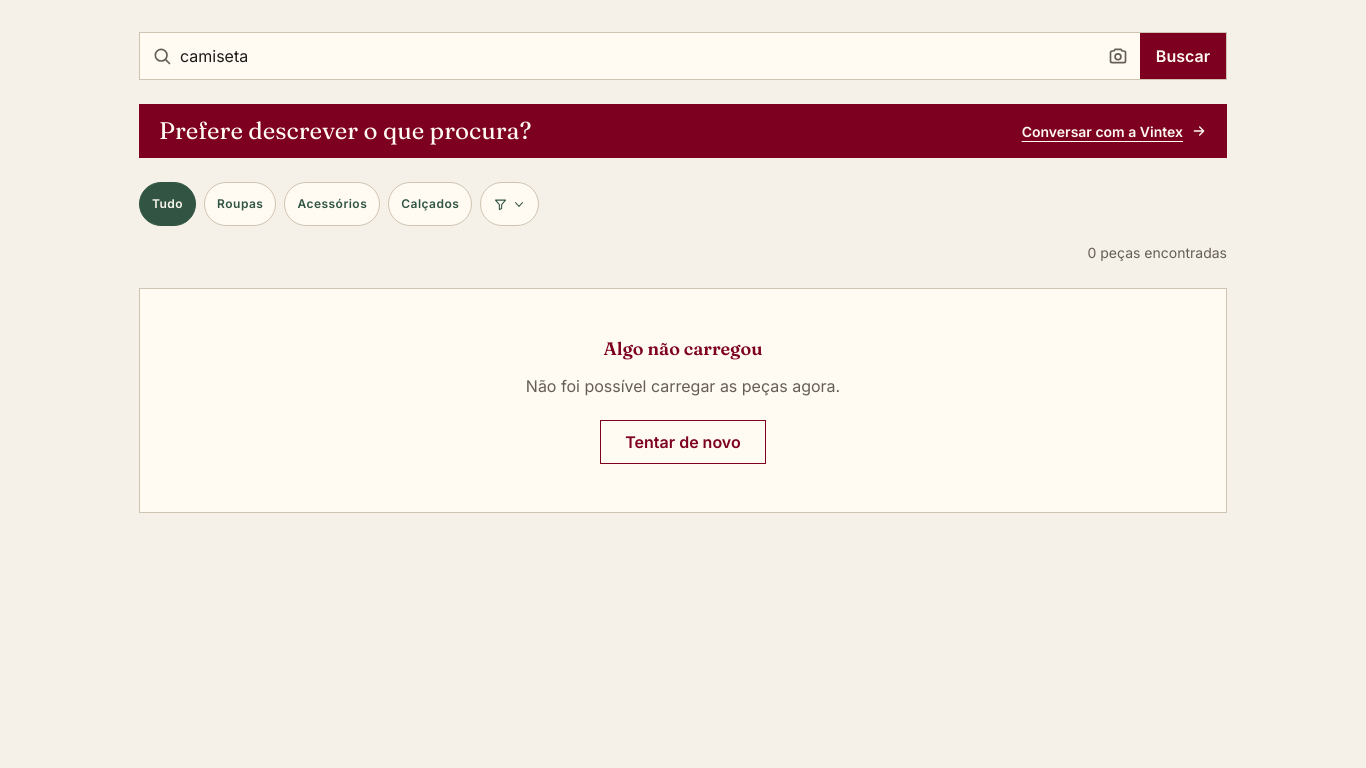
Catalog › resposta de retry antigo não substitui os produtos da consulta mais recente
Step 1. Click the button "Tentar de novo" → (683, 442), box [600, 420, 766, 464]
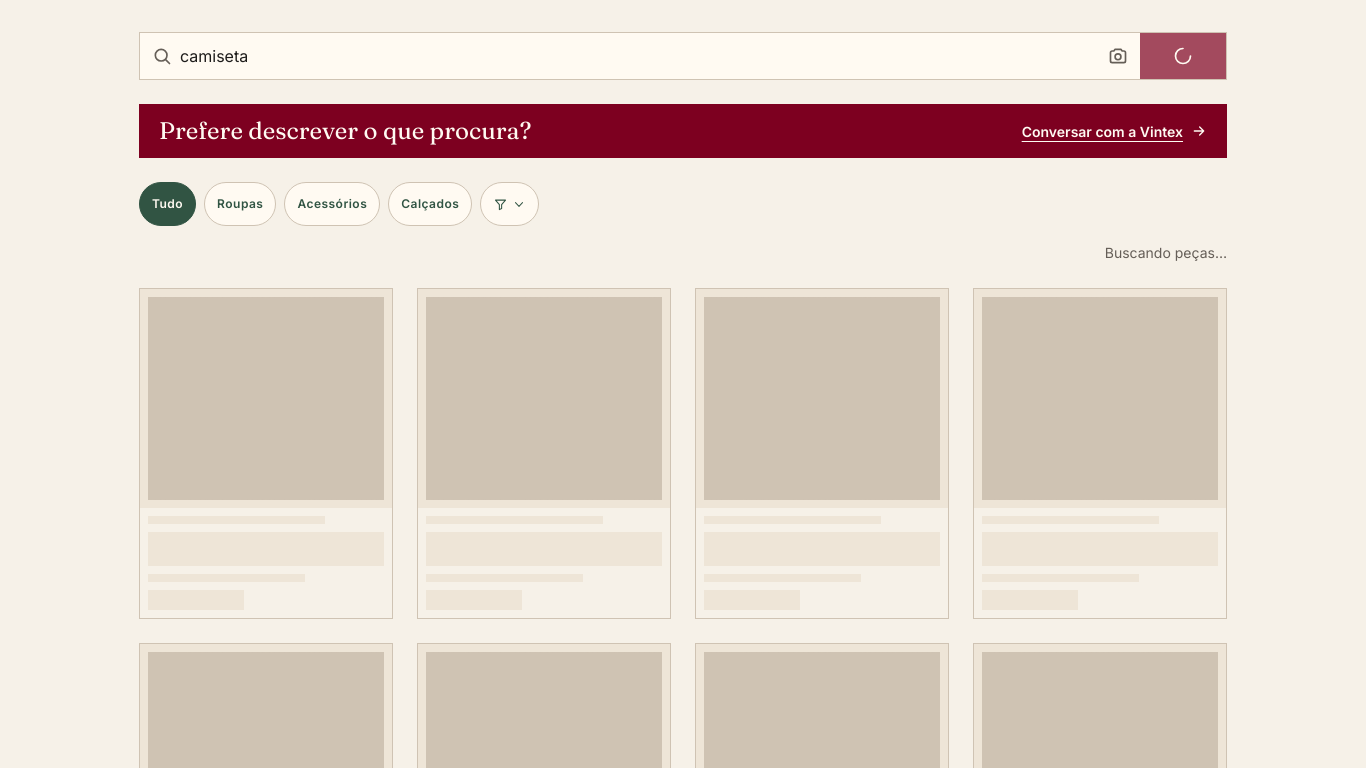
Step 2. Click the button "Calçados" → (430, 204), box [388, 182, 472, 226]
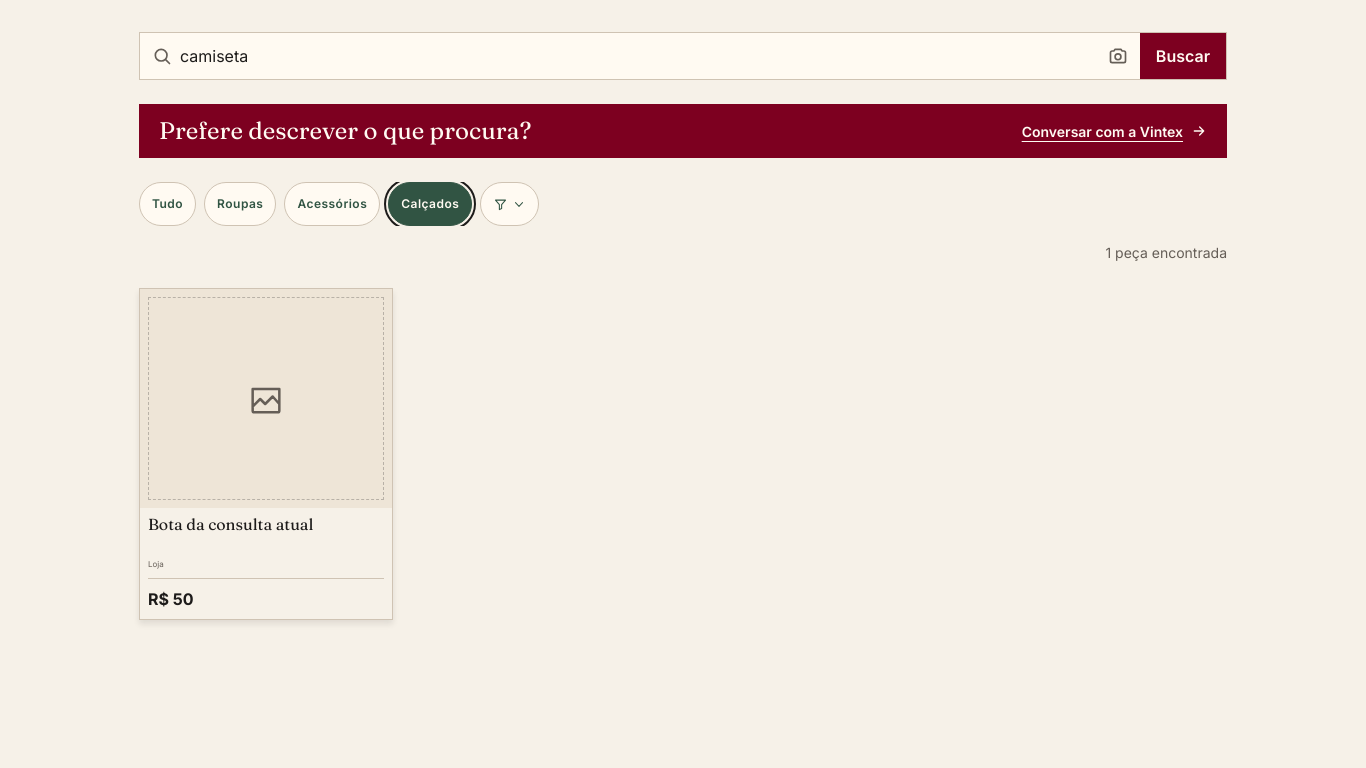
Result: the link "Bota da consulta atual" is shown at [148, 514, 313, 534]
